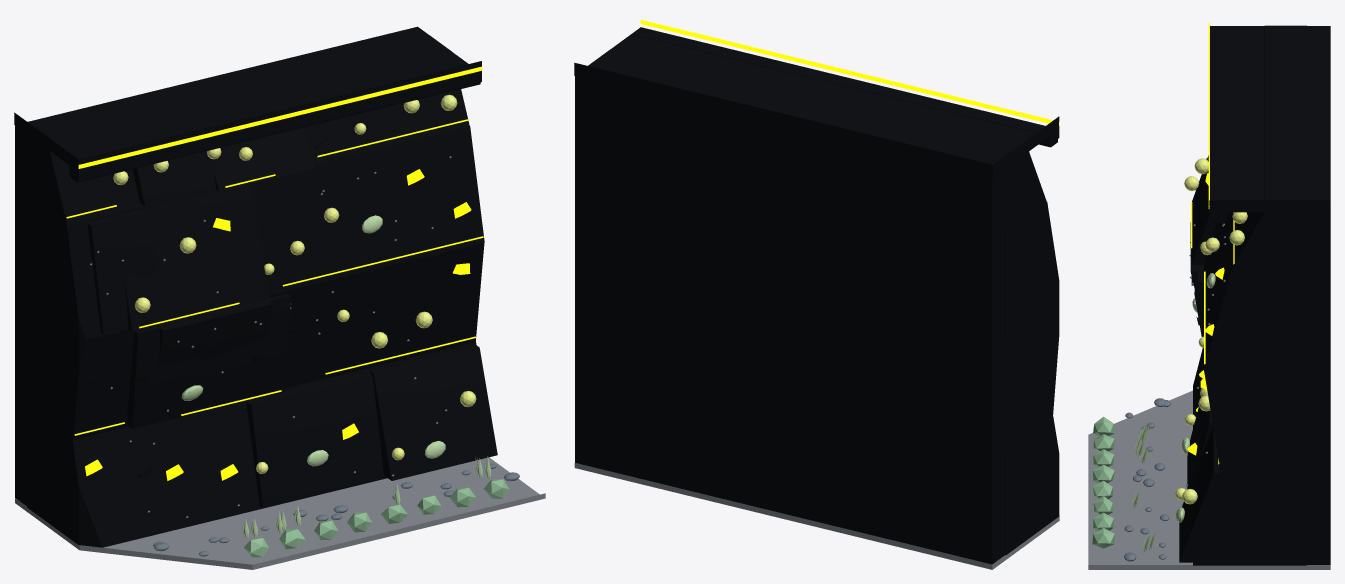
The model's file is tt_plinth_skirt_terrace_mitre_ne.glb.
The picture shows the model from 3 angles, left to right: view 1: azimuth 30°, elevation 25°; view 2: azimuth 150°, elevation 25°; view 3: azimuth 270°, elevation 25°; orthographic projection. The views are drawn at different scales.
Parts seen in each view (by area): view 1: Course2_Facets, Course0_Facets, Course1_Facets, Course3_Facets, Cap_Course, Base_Mat, Skirt_Core, Tennis_Ball_Holds, Moss_Edge, Seam_Tape, Cap_Court_Line, Jug_Holds (+4 smaller); view 2: Skirt_Core, Cap_Course, Course3_Facets, Course1_Facets, Course0_Facets, Course2_Facets, Base_Mat, Cap_Court_Line; view 3: Cap_Course, Course0_Facets, Base_Mat, Course2_Facets, Course3_Facets, Course1_Facets, Skirt_Core, Moss_Edge, Tennis_Ball_Holds, River_Stones, Grass_Tufts, Sloper_Holds (+3 smaller).
Part boxes in pixels (bbox=[...]): Course2_Facets: bbox=[27, 126, 484, 339]; Course0_Facets: bbox=[27, 342, 497, 547]; Course1_Facets: bbox=[27, 242, 484, 439]; Course3_Facets: bbox=[27, 35, 469, 224]; Cap_Course: bbox=[14, 26, 481, 180]; Base_Mat: bbox=[15, 457, 545, 569]; Skirt_Core: bbox=[15, 126, 26, 505]; Tennis_Ball_Holds: bbox=[113, 94, 476, 473]; Moss_Edge: bbox=[243, 479, 509, 557]; Seam_Tape: bbox=[66, 119, 483, 435]; Cap_Court_Line: bbox=[78, 66, 482, 168]; Jug_Holds: bbox=[85, 169, 471, 480]; Skirt_Core: bbox=[575, 76, 1005, 564]; Cap_Course: bbox=[574, 27, 1059, 177]; Course3_Facets: bbox=[588, 49, 1046, 232]; Course1_Facets: bbox=[1005, 303, 1059, 451]; Course0_Facets: bbox=[1005, 416, 1059, 555]; Course2_Facets: bbox=[1005, 202, 1059, 341]; Base_Mat: bbox=[574, 463, 1059, 569]; Cap_Court_Line: bbox=[640, 20, 1059, 125]; Cap_Course: bbox=[1209, 26, 1330, 220]; Course0_Facets: bbox=[1179, 348, 1306, 565]; Base_Mat: bbox=[1088, 390, 1330, 569]; Course2_Facets: bbox=[1191, 155, 1306, 370]; Course3_Facets: bbox=[1231, 25, 1307, 270]; Course1_Facets: bbox=[1190, 222, 1307, 469]; Skirt_Core: bbox=[1306, 212, 1330, 564]; Moss_Edge: bbox=[1092, 416, 1114, 548]; Tennis_Ball_Holds: bbox=[1175, 158, 1247, 504]; River_Stones: bbox=[1124, 398, 1170, 561]; Grass_Tufts: bbox=[1131, 423, 1156, 552]; Sloper_Holds: bbox=[1176, 273, 1215, 522].
Size of what is drawn, in the model's own units: 4 by 3.7 by 2.2.
Materials: 8 (3 with a texture image).
